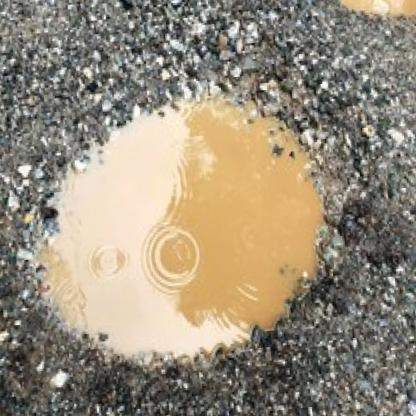pothole: (0, 66, 359, 384)
